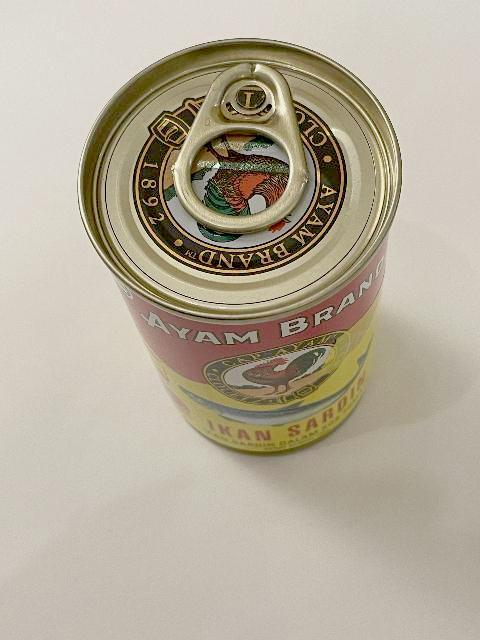foodcan: (74, 39, 402, 458)
